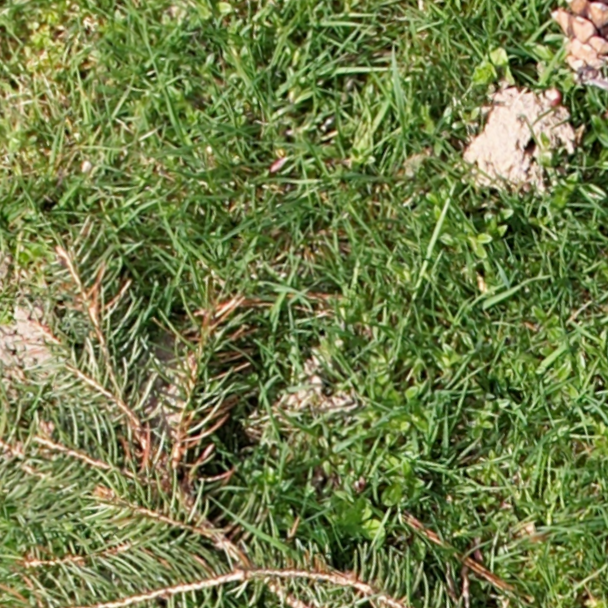nest: (457, 87, 580, 192)
